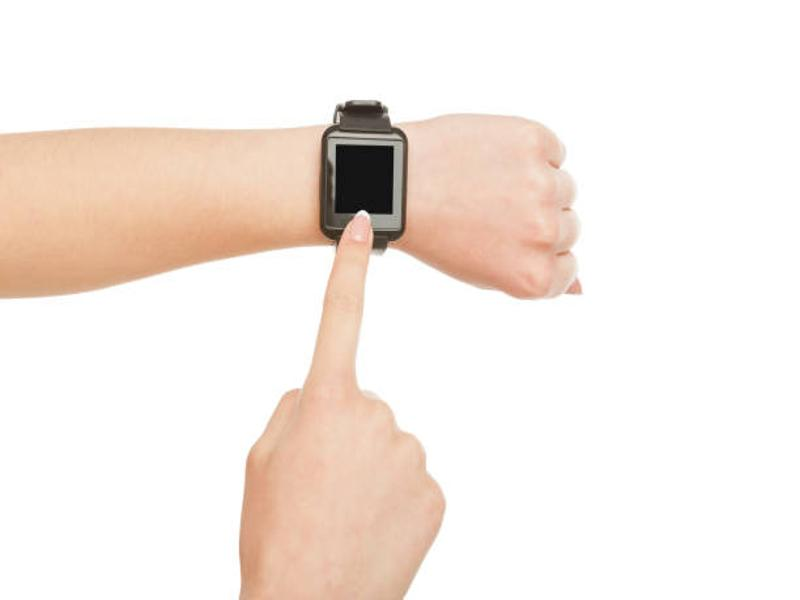watch: (316, 93, 408, 255)
